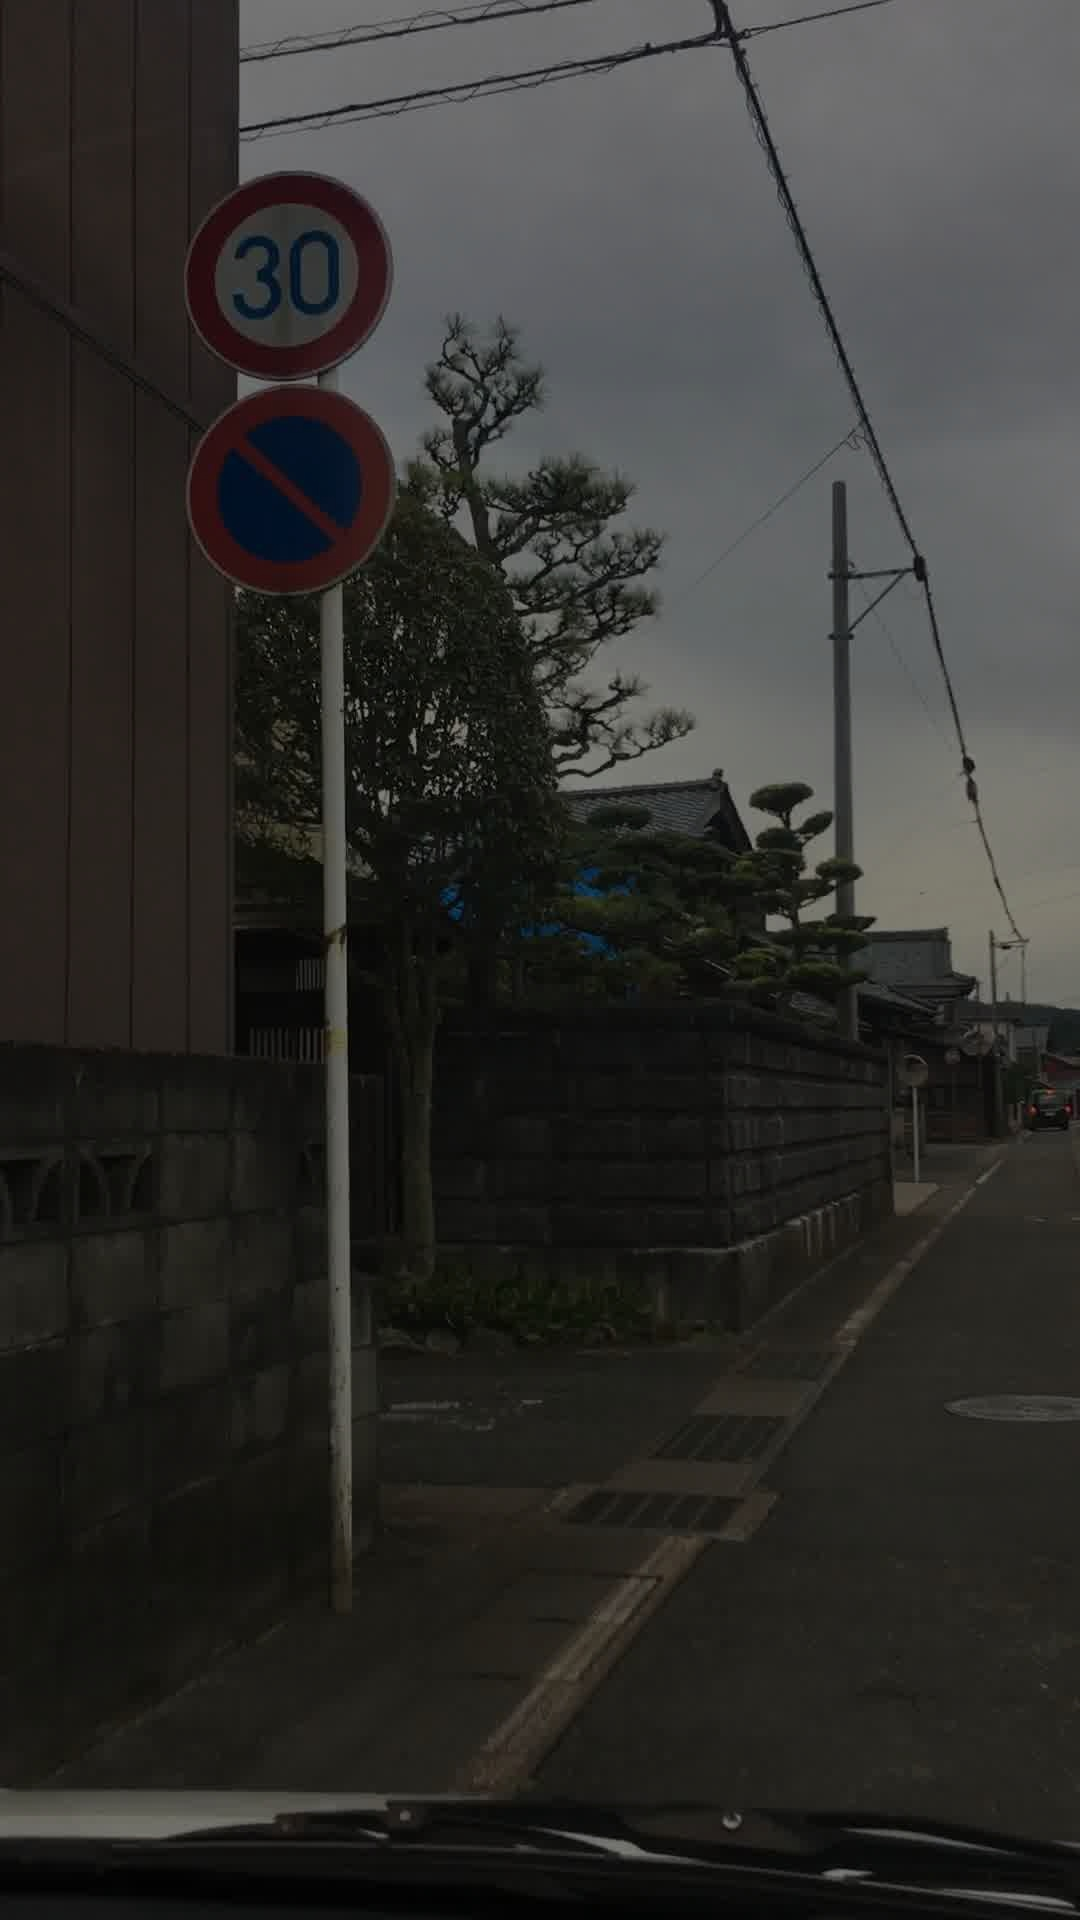Prohibition_sign: (166, 382, 404, 603)
Speed_sign: (179, 158, 442, 386)
